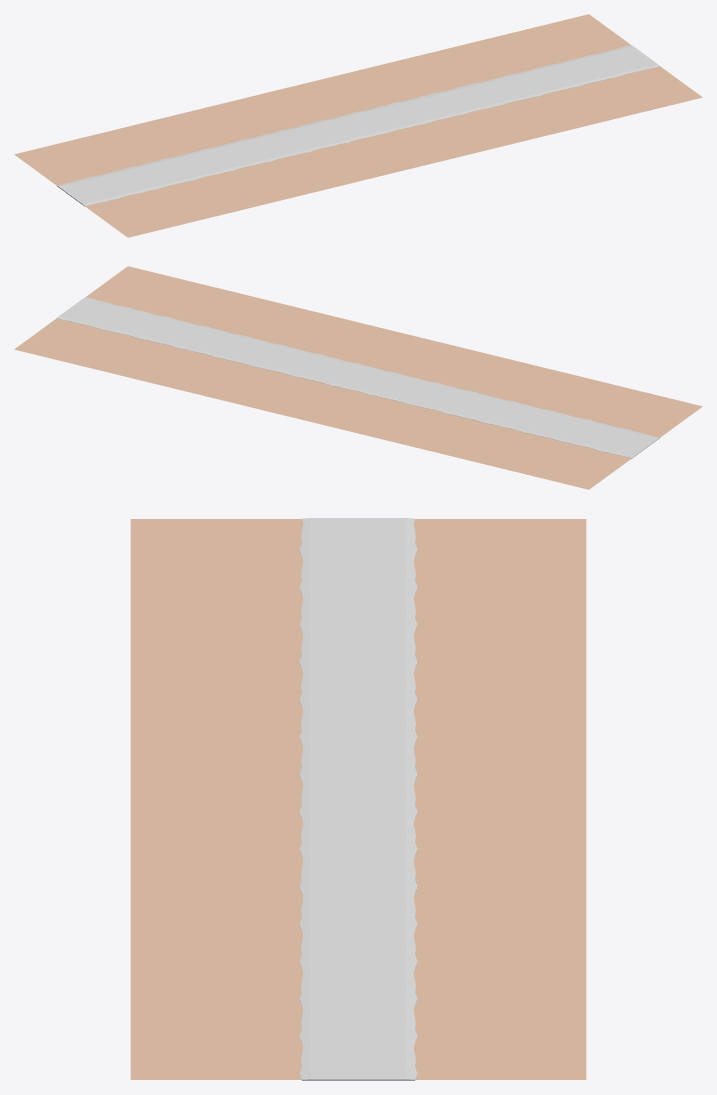
File: SandandRoad.fbx
3 renders of one model, top to bottom at view 1: azimuth 30°, elevation 25°; view 2: azimuth 150°, elevation 25°; view 3: azimuth 270°, elevation 25°, orthographic. The views are drawn at different scales.
Parts seen in each view (by area): view 1: Plane, road.007; view 2: Plane, road.007; view 3: Plane, road.007.
Part boxes in pixels (x1,y1,x2,y2): Plane: (14,14,702,237); road.007: (57,45,659,206); Plane: (14,266,702,489); road.007: (57,297,659,458); Plane: (130,519,586,1079); road.007: (299,518,417,1080).
Bounding box in the file's own units: 13518 × 18.11 × 4639.
